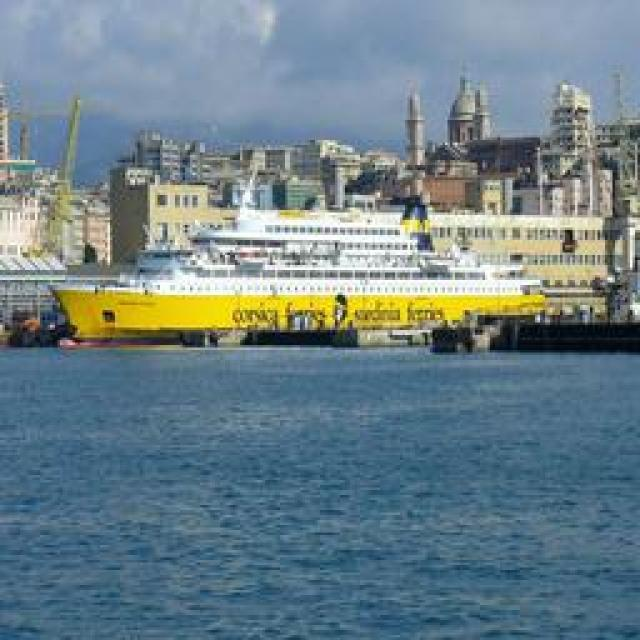CIV_Ship: (46, 241, 546, 344)
